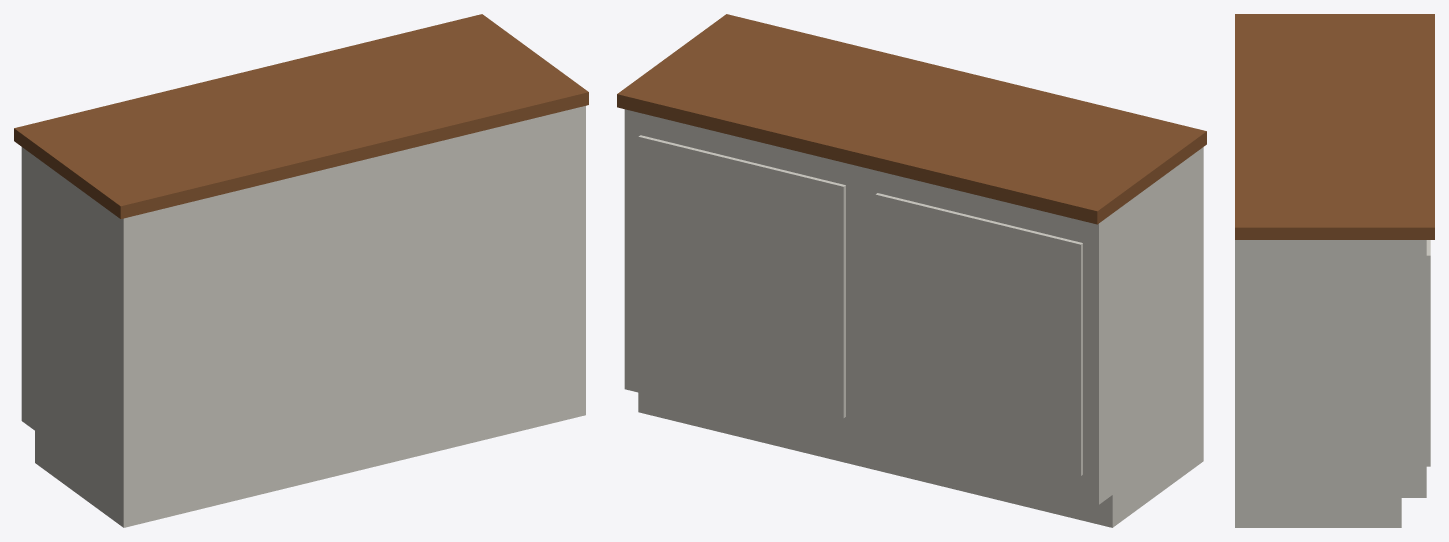
The picture shows the model from 3 angles, left to right: view 1: azimuth 30°, elevation 25°; view 2: azimuth 150°, elevation 25°; view 3: azimuth 270°, elevation 25°; orthographic projection. The views are drawn at different scales.
Visible parts, largest first — view 1: parametric-swiss-bread-counter-ship; view 2: parametric-swiss-bread-counter-ship; view 3: parametric-swiss-bread-counter-ship.
Part boxes in pixels (bbox=[...]): parametric-swiss-bread-counter-ship: bbox=[14, 14, 588, 527]; parametric-swiss-bread-counter-ship: bbox=[617, 14, 1206, 527]; parametric-swiss-bread-counter-ship: bbox=[1235, 14, 1434, 527].
Bounding box in the file's own units: 1.52 × 1 × 0.6.
